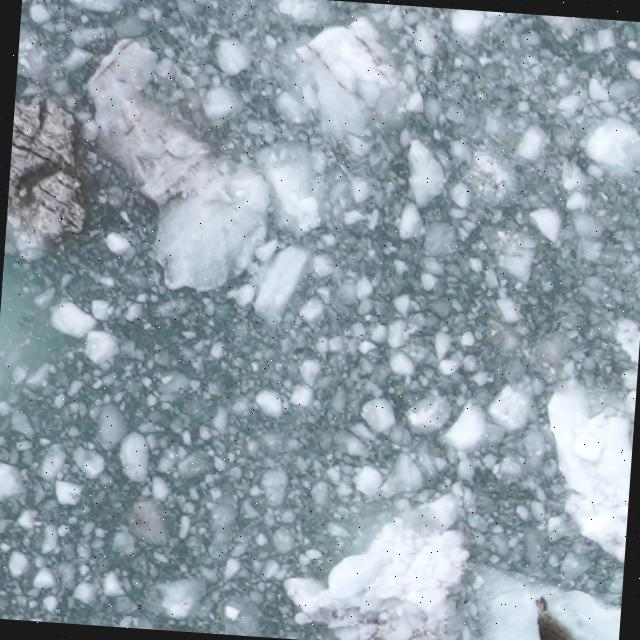seal: (528, 590, 606, 640)
